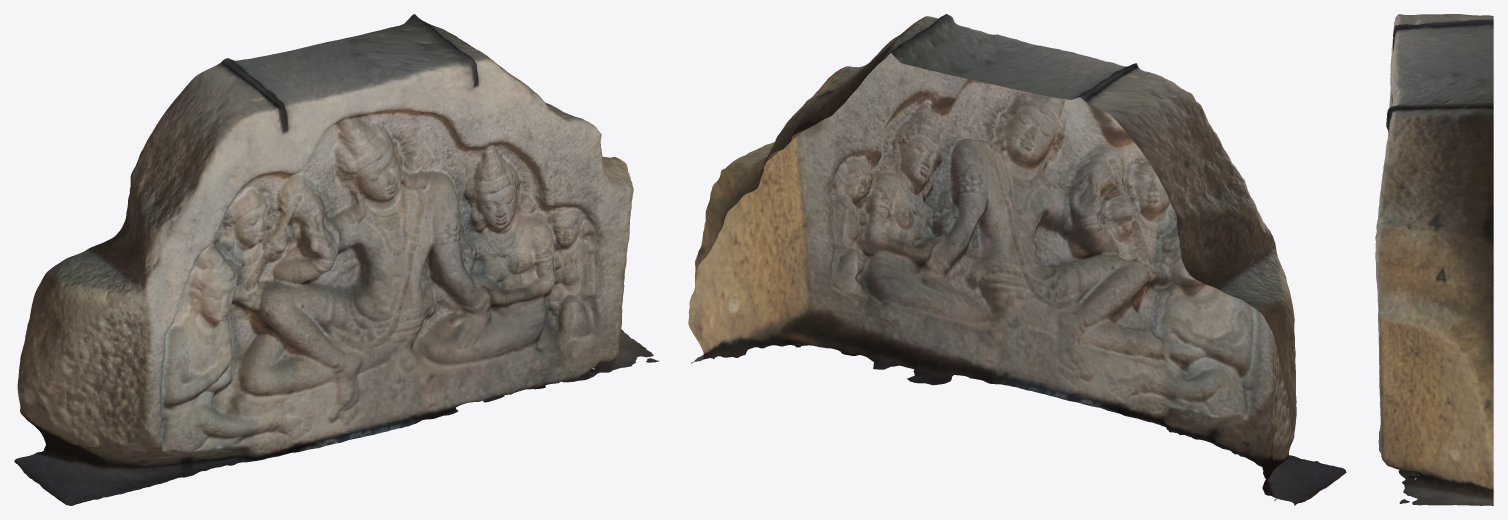
Rendered from konigsfamilie_anuradhapura.glb.
3 views of the same model, side by side, from view 1: azimuth 30°, elevation 25°; view 2: azimuth 150°, elevation 25°; view 3: azimuth 270°, elevation 25° (orthographic). The views are drawn at different scales.
Visible parts, largest first — view 1: Object_2, Object_3; view 2: Object_2, Object_3; view 3: Object_2, Object_3.
Boxes of the visible parts, x1,y1,x2,y2 form: Object_2: [14, 14, 659, 505]; Object_3: [17, 38, 631, 472]; Object_2: [688, 14, 1346, 505]; Object_3: [688, 35, 1296, 500]; Object_2: [1375, 14, 1493, 505]; Object_3: [1378, 31, 1493, 470].
Size of the model in its own units: 1.24 by 0.7035 by 0.2369.
Materials: 1 (1 with a texture image).
